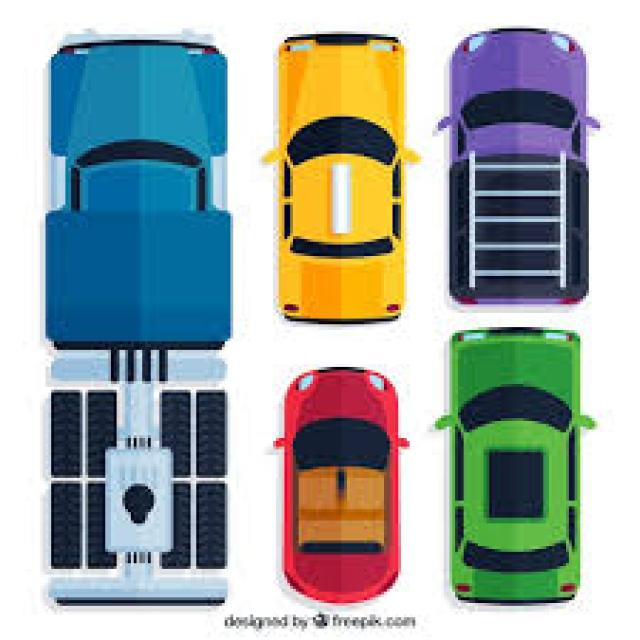truck: (43, 30, 228, 608)
